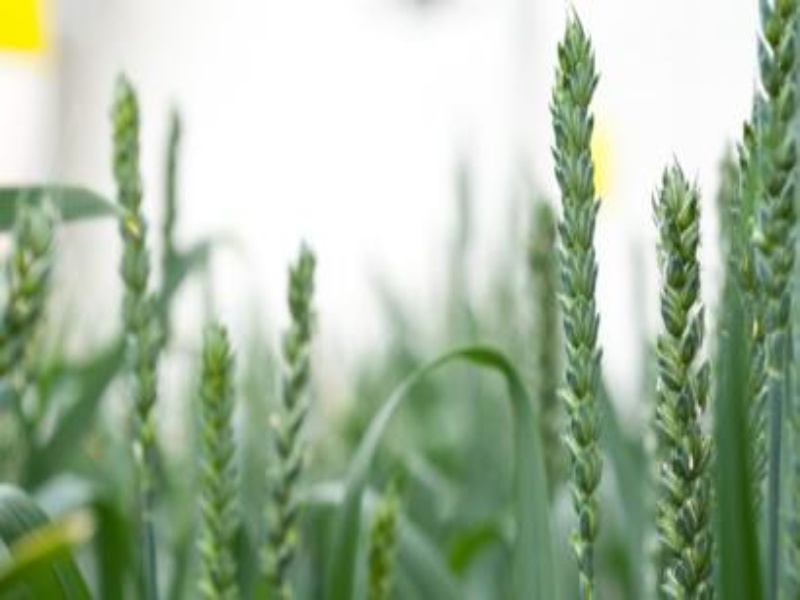wheat: (623, 146, 738, 582), (529, 5, 619, 552), (97, 74, 174, 472), (738, 1, 799, 425), (264, 229, 324, 583), (187, 316, 250, 594), (1, 203, 57, 411), (362, 470, 414, 597)
